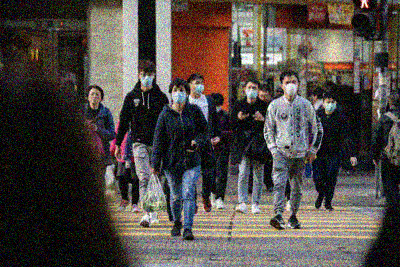with_mask: (172, 86, 187, 103), (283, 79, 298, 95), (140, 71, 155, 86), (191, 79, 205, 95), (245, 84, 258, 99), (325, 99, 337, 113)
without_mask: (88, 91, 101, 104), (258, 92, 271, 102)
